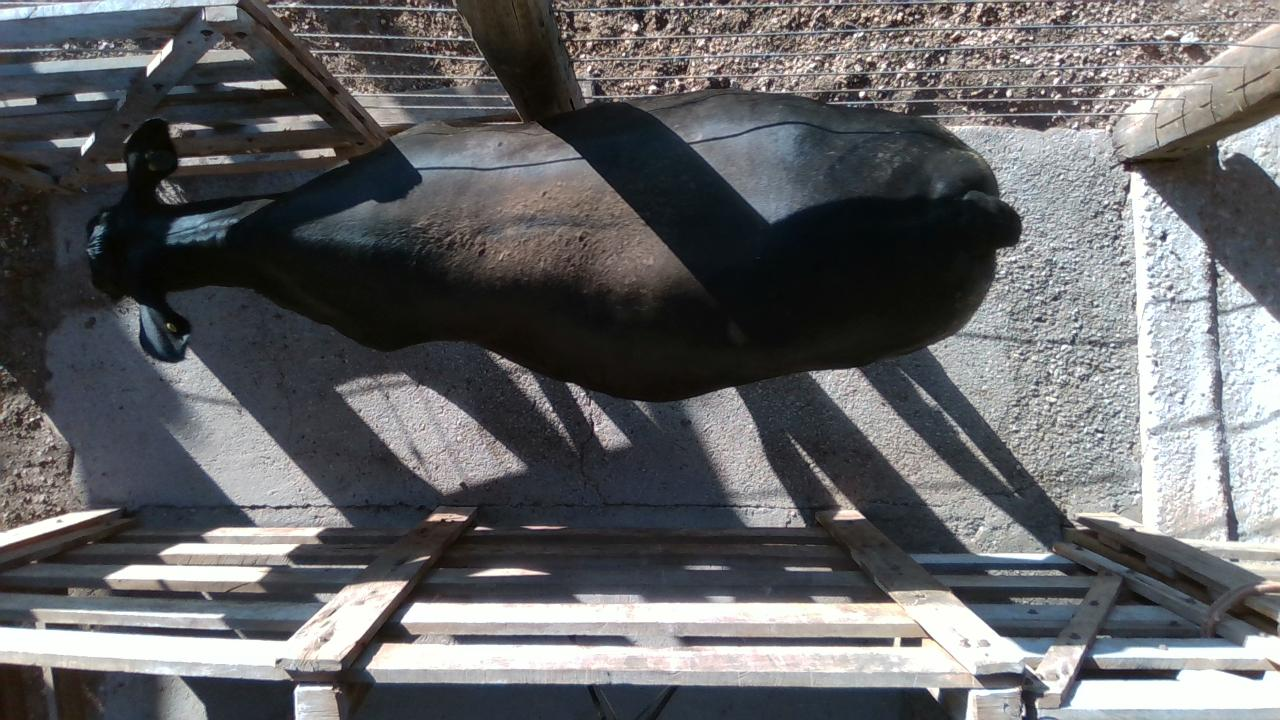cattle: (84, 84, 1022, 402)
